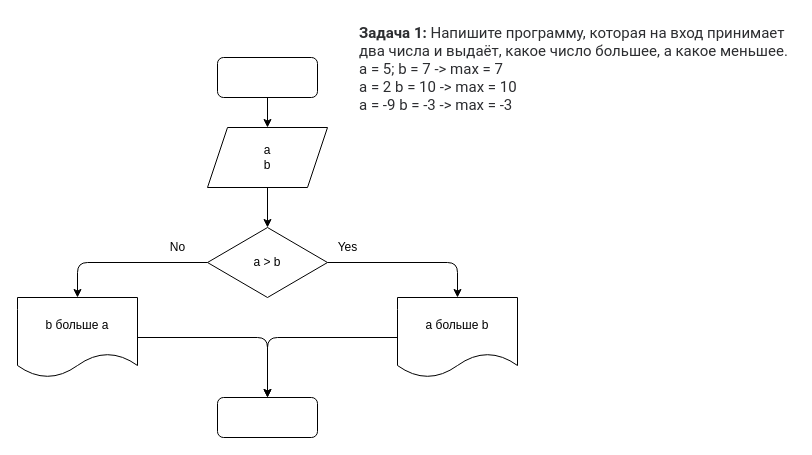
This 812x455 diagram has some shape labels left out. Here are the shapes that lost their labels. From the top down, the box of each, then its label:
(216, 56, 318, 98): Start
(216, 396, 318, 438): Stop
